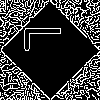L: (25, 25, 70, 53)
